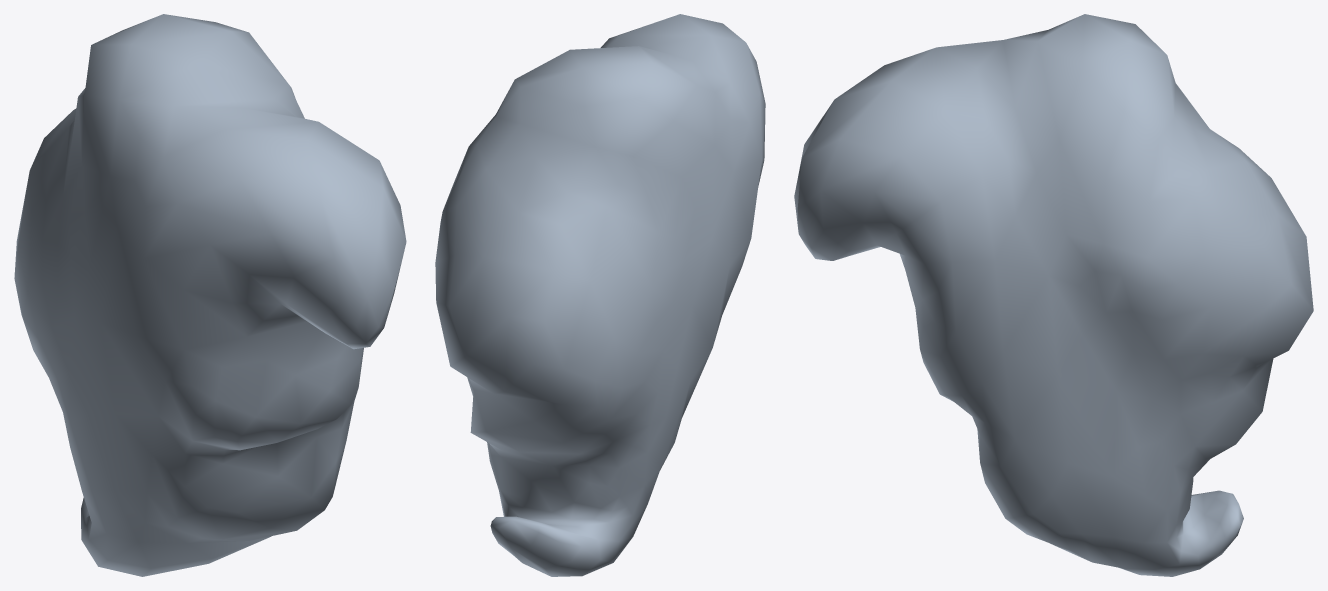
The model's file is Tail_05.fbx.
3 renders of one model, left to right at view 1: azimuth 30°, elevation 25°; view 2: azimuth 150°, elevation 25°; view 3: azimuth 270°, elevation 25°, orthographic. The views are drawn at different scales.
Parts seen in each view (by area): view 1: Tail_05; view 2: Tail_05; view 3: Tail_05.
Boxes of the visible parts, x1,y1,x2,y2 form: Tail_05: (14,14,406,576); Tail_05: (435,14,765,576); Tail_05: (794,14,1313,576).
Size of the model in its own units: 0.8784 by 1.82 by 1.63.
